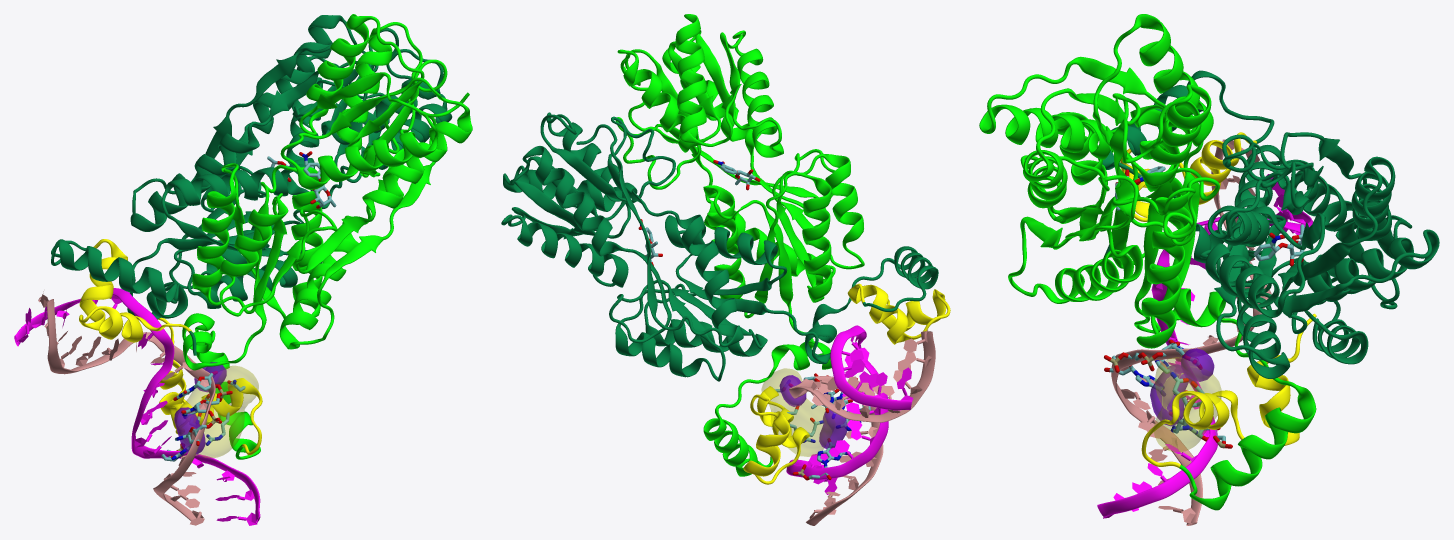
Rendered from lac_repressor_with_anti-inducer_onpf_and_dna.glb.
3 renders of one model, left to right at view 1: azimuth 30°, elevation 25°; view 2: azimuth 150°, elevation 25°; view 3: azimuth 270°, elevation 25°, orthographic. The views are drawn at different scales.
Visible parts, largest first — view 1: Object_7, Object_4, Object_13, Object_2, Object_8, Object_3, Object_5, Object_11, Object_10; view 2: Object_4, Object_7, Object_2, Object_13, Object_8, Object_3, Object_5, Object_11; view 3: Object_7, Object_4, Object_13, Object_2, Object_8, Object_3, Object_5, Object_11, Object_10, Object_12.
Part boxes in pixels (box(x1,y1,x2,y2)): Object_7: box(182, 14, 472, 459); Object_4: box(51, 15, 452, 355); Object_13: box(79, 239, 262, 455); Object_2: box(14, 288, 260, 525); Object_8: box(38, 291, 215, 525); Object_3: box(175, 365, 258, 458); Object_5: box(174, 362, 226, 454); Object_11: box(161, 373, 245, 461); Object_10: box(170, 151, 330, 457); Object_4: box(501, 112, 938, 381); Object_7: box(616, 14, 864, 476); Object_2: box(786, 325, 913, 494); Object_13: box(743, 283, 950, 484); Object_8: box(789, 330, 935, 525); Object_3: box(761, 368, 834, 456); Object_5: box(779, 375, 847, 448); Object_11: box(775, 376, 870, 479); Object_7: box(979, 14, 1316, 510); Object_4: box(1102, 70, 1439, 378); Object_13: box(1120, 132, 1316, 467); Object_2: box(1097, 174, 1312, 518); Object_8: box(1111, 139, 1271, 525); Object_3: box(1154, 357, 1221, 451); Object_5: box(1150, 348, 1214, 425); Object_11: box(1109, 342, 1225, 441); Object_10: box(1104, 169, 1303, 448); Object_12: box(1115, 166, 1304, 261).
Bounding box in the file's own units: 2.12 × 2.29 × 1.6.
